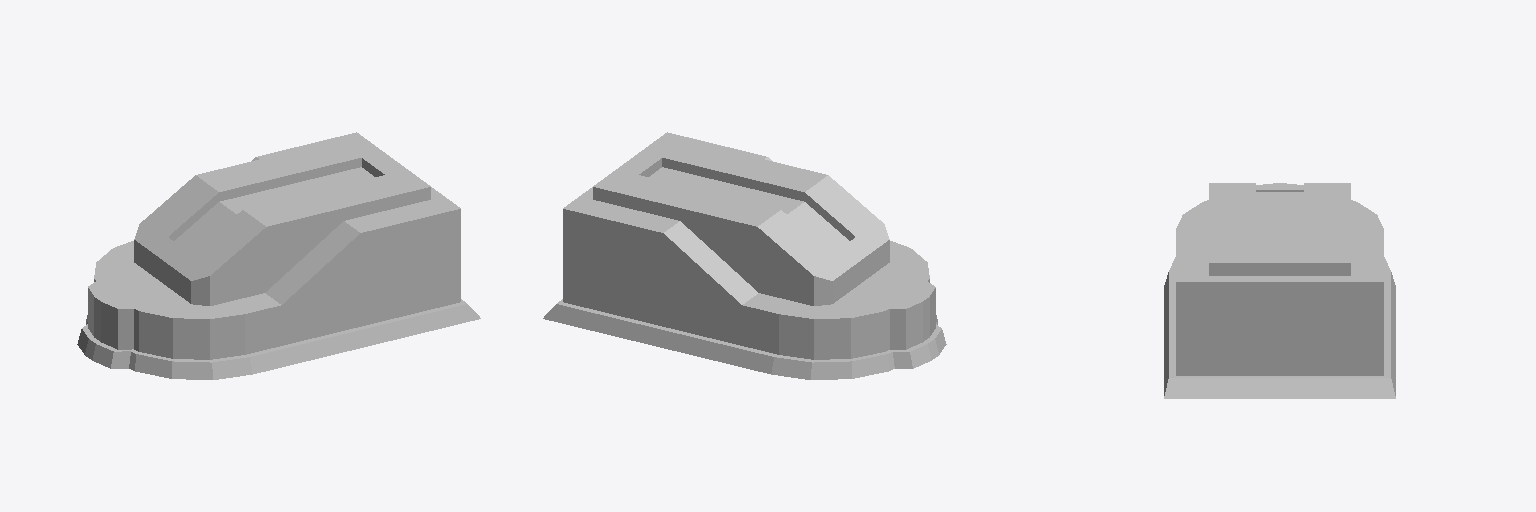
The model's file is Lever_Base_Cube_001.obj.
The picture shows the model from 3 angles: view 1: azimuth 30°, elevation 25°; view 2: azimuth 150°, elevation 25°; view 3: azimuth 270°, elevation 25°; orthographic projection.
Parts seen in each view (by area): view 1: Lever_Base_Cube.001; view 2: Lever_Base_Cube.001; view 3: Lever_Base_Cube.001.
Boxes of the visible parts, x1,y1,x2,y2 form: Lever_Base_Cube.001: [77, 132, 480, 379]; Lever_Base_Cube.001: [543, 132, 946, 379]; Lever_Base_Cube.001: [1164, 183, 1395, 398].
Bounding box in the file's own units: 0.6624 × 0.2309 × 0.398.